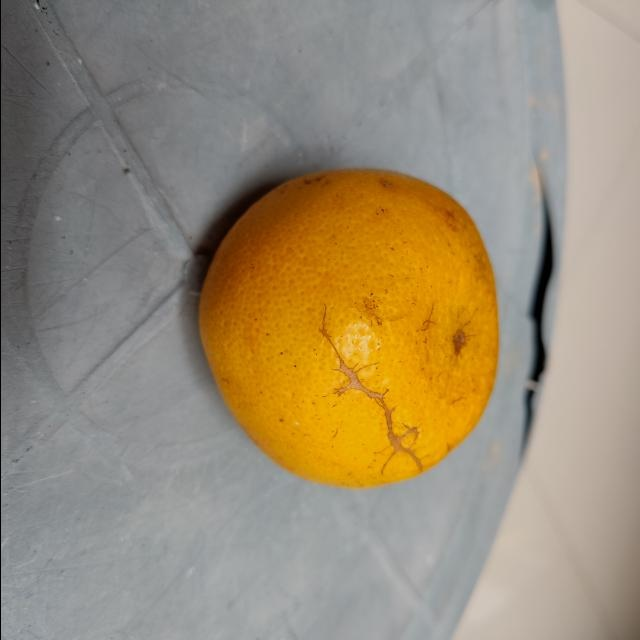agrume: (194, 168, 500, 490)
